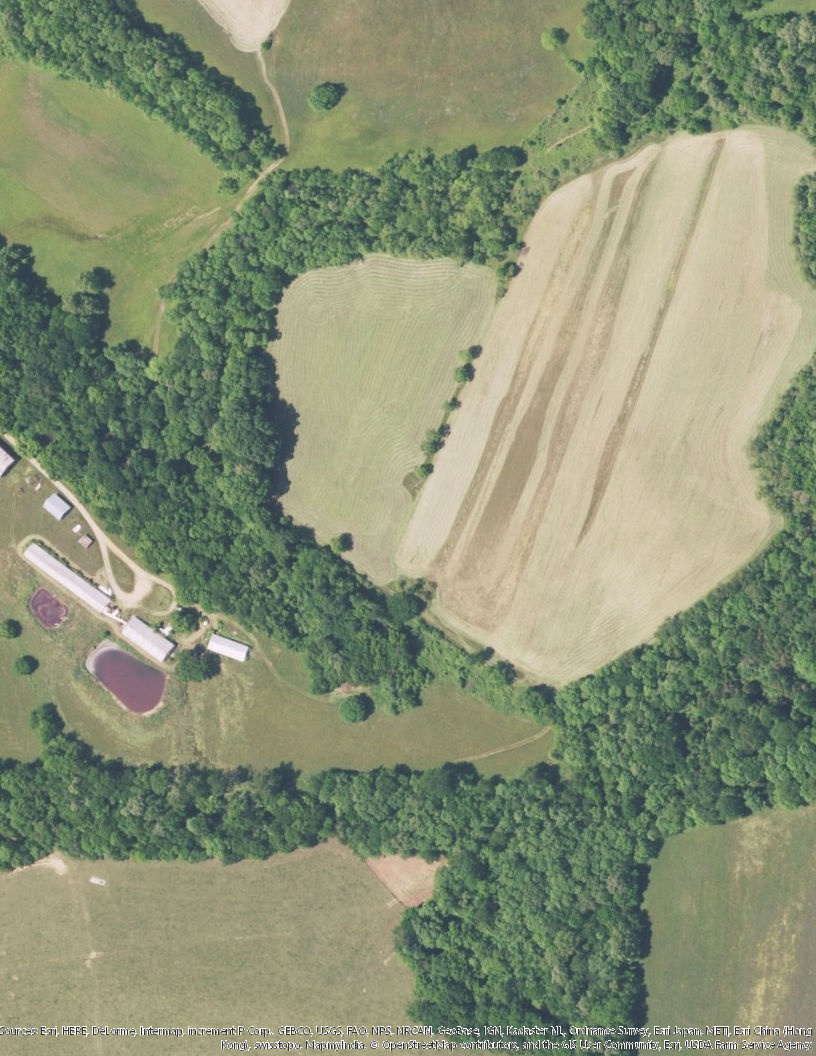cafo: (24, 543, 115, 614), (119, 614, 177, 664), (205, 632, 253, 664)
